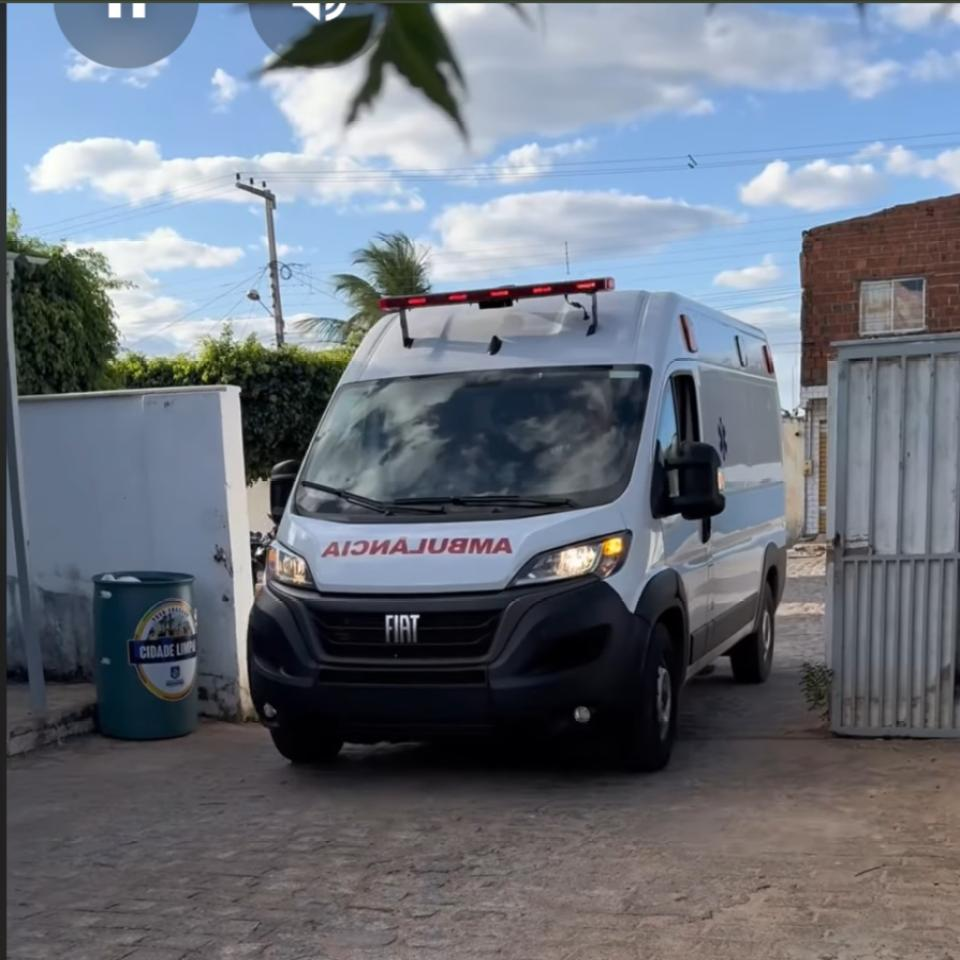bombeiro: (243, 276, 792, 779)
